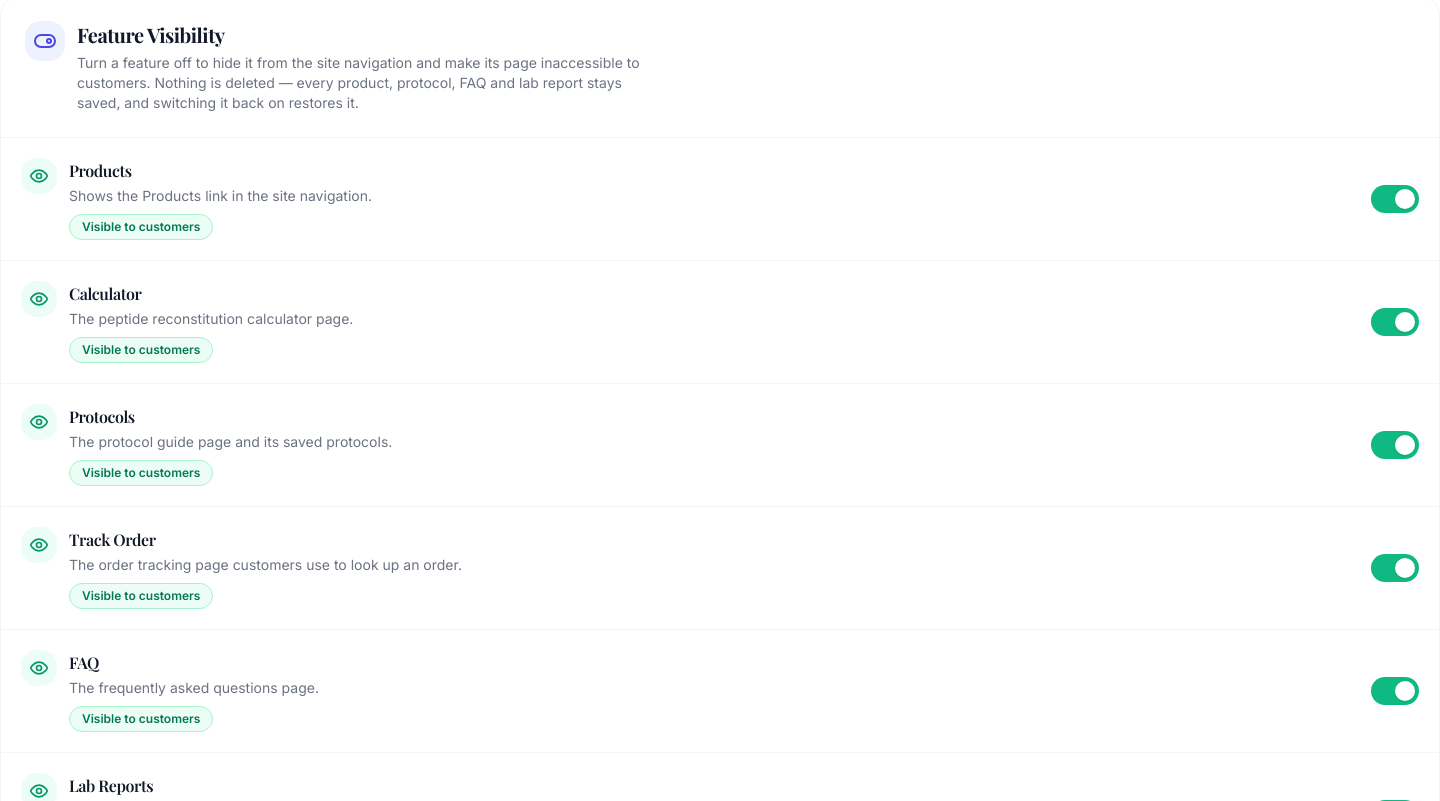
FeatureVisibilityManager › surfaces a save failure instead of appearing to succeed
The width and height of the screenshot is (1440, 801).
Click the switch named "FAQ": (1395, 691) x1=1371 y1=677 x2=1419 y2=705
(page scrolled)
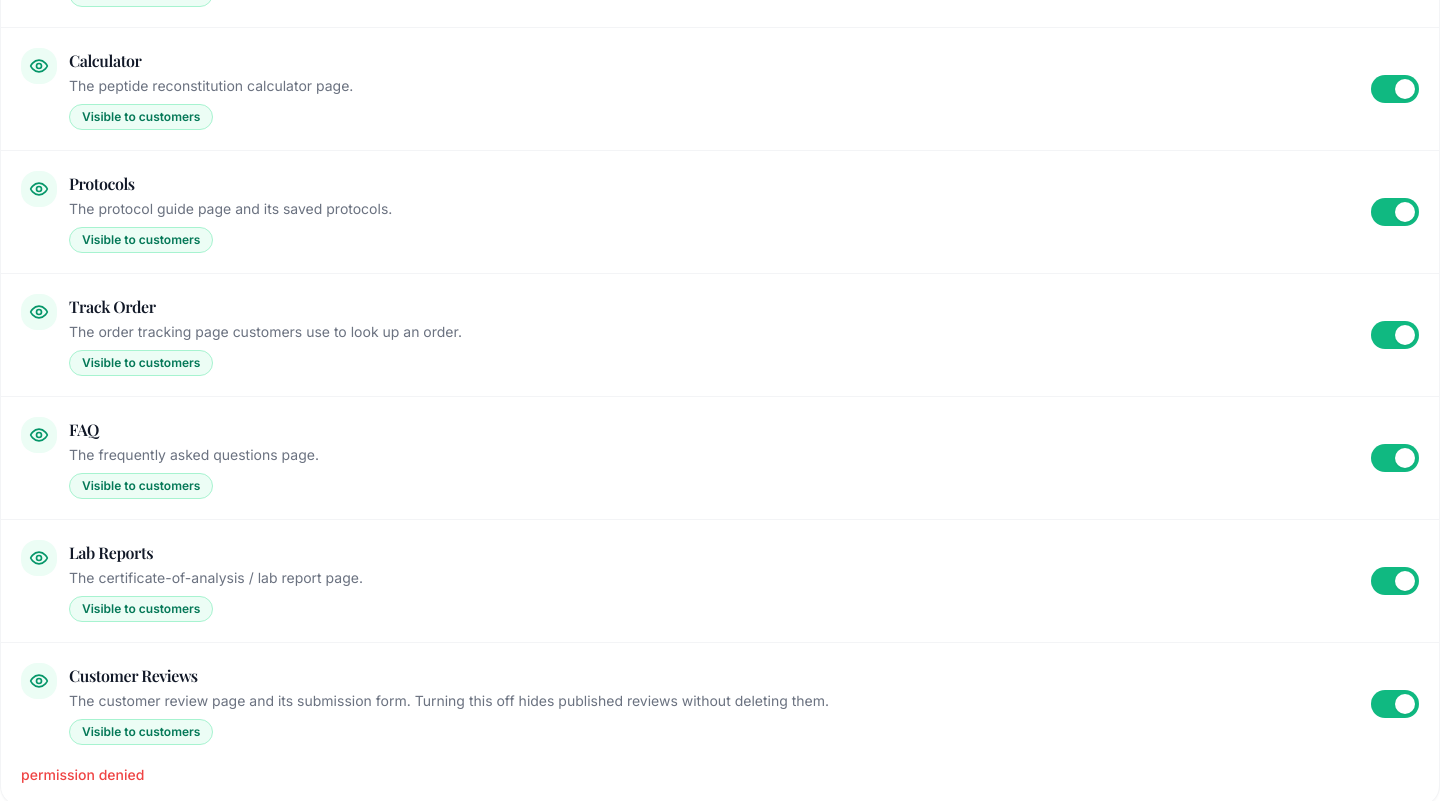
Check: the message reads "permission denied", box x1=21 y1=766 x2=144 y2=783
